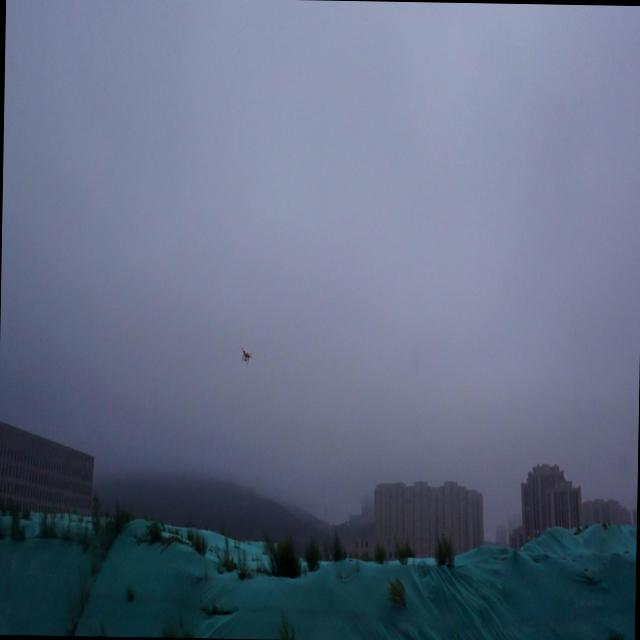drone: (238, 344, 254, 365)
